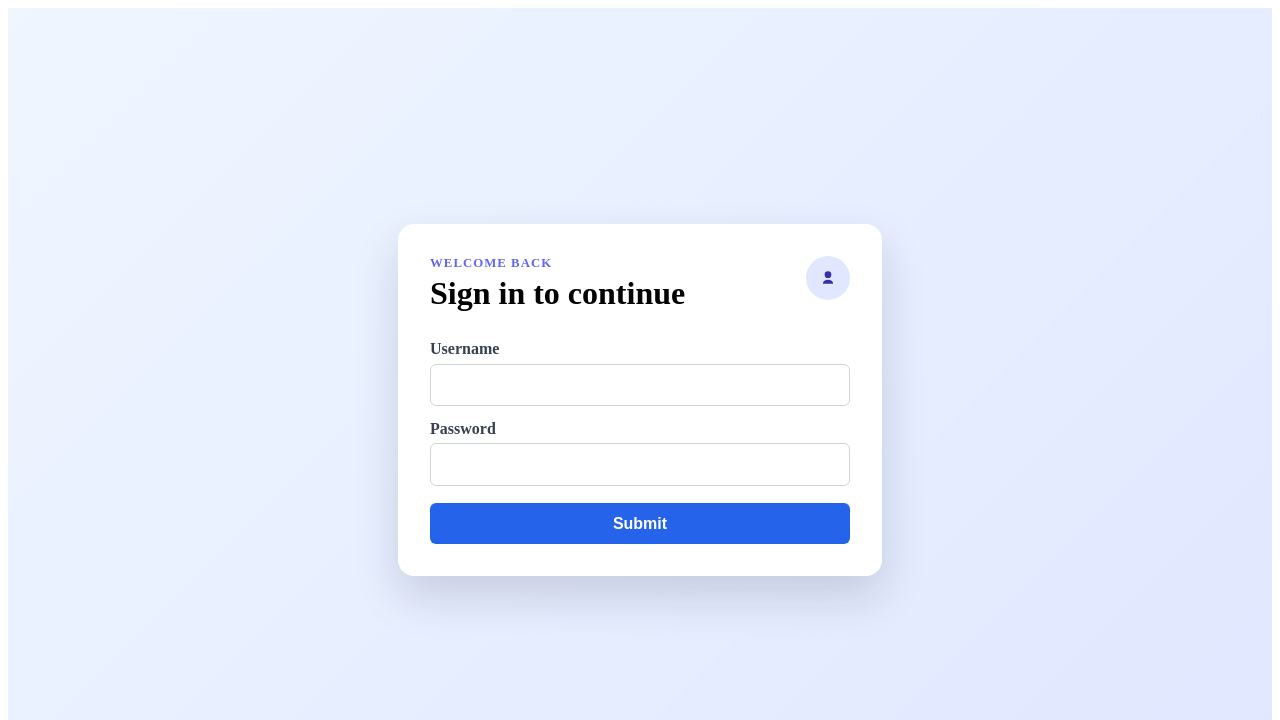
Scenario: WelcomeScreen › shows validation feedback when required fields are empty
This screenshot has width=1280, height=720.
Click the button "Submit" at [640, 524], box [430,503,850,544]
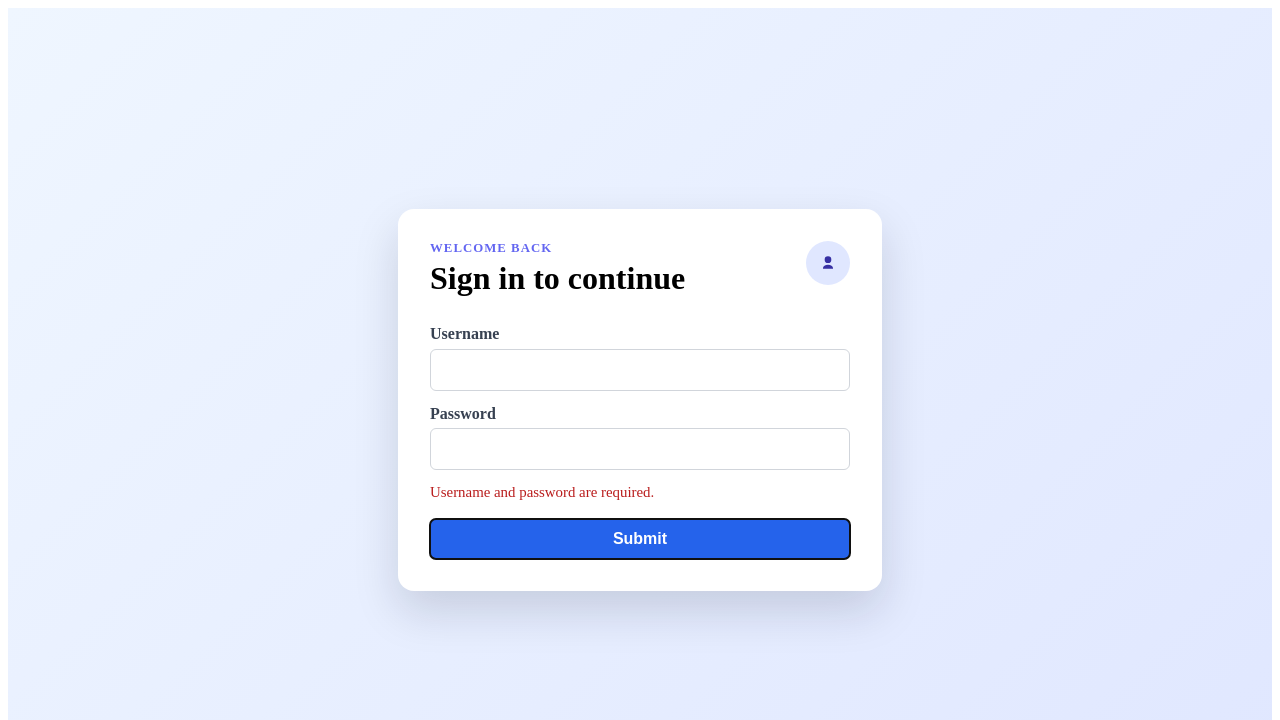
Check: the text "Username and password are required." is shown, box [430,484,654,500]
